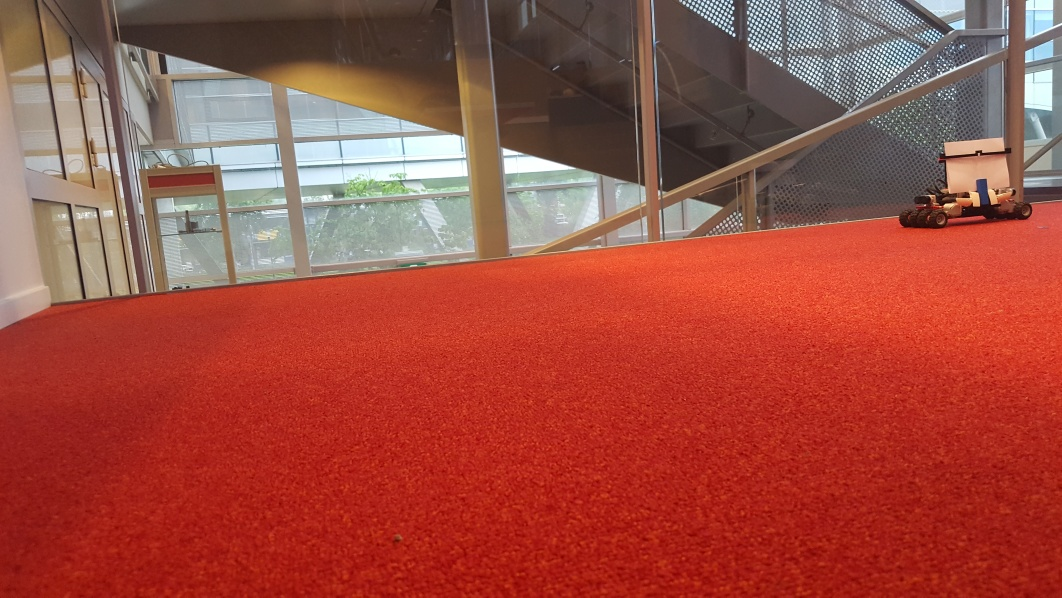car: (899, 135, 1033, 228)
